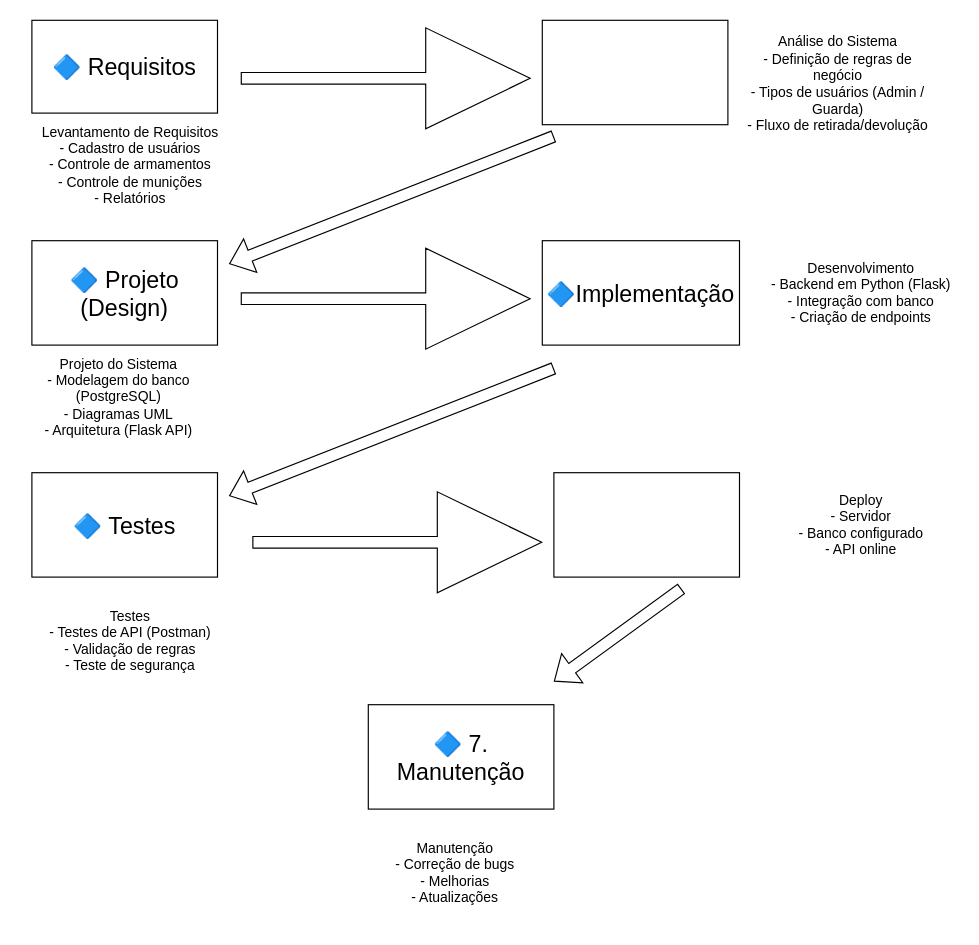
This 979x945 diagram has some shape labels left out. The shapes that lost their labels are listed below. From the top down, each one's centre as x and y in pixels, then its label:
(634,72): 🔷 Análise
(646,524): 🔷 Implantação
